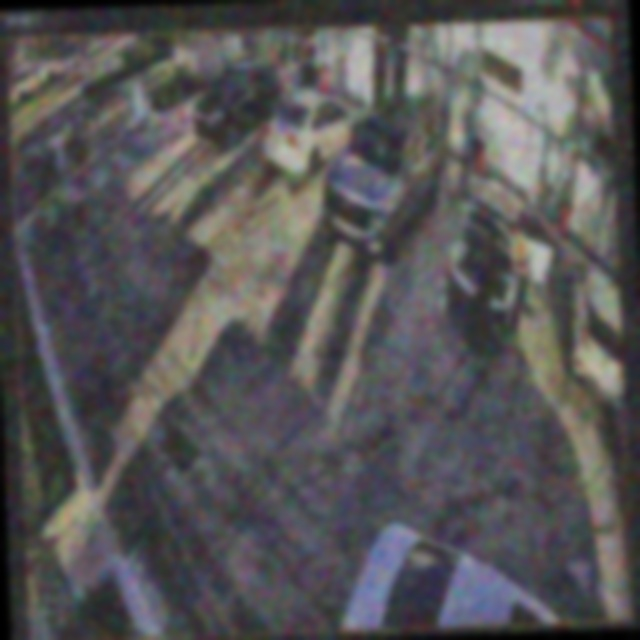Car: (320, 92, 445, 265), (444, 177, 555, 337), (191, 63, 285, 148), (264, 89, 360, 169)
